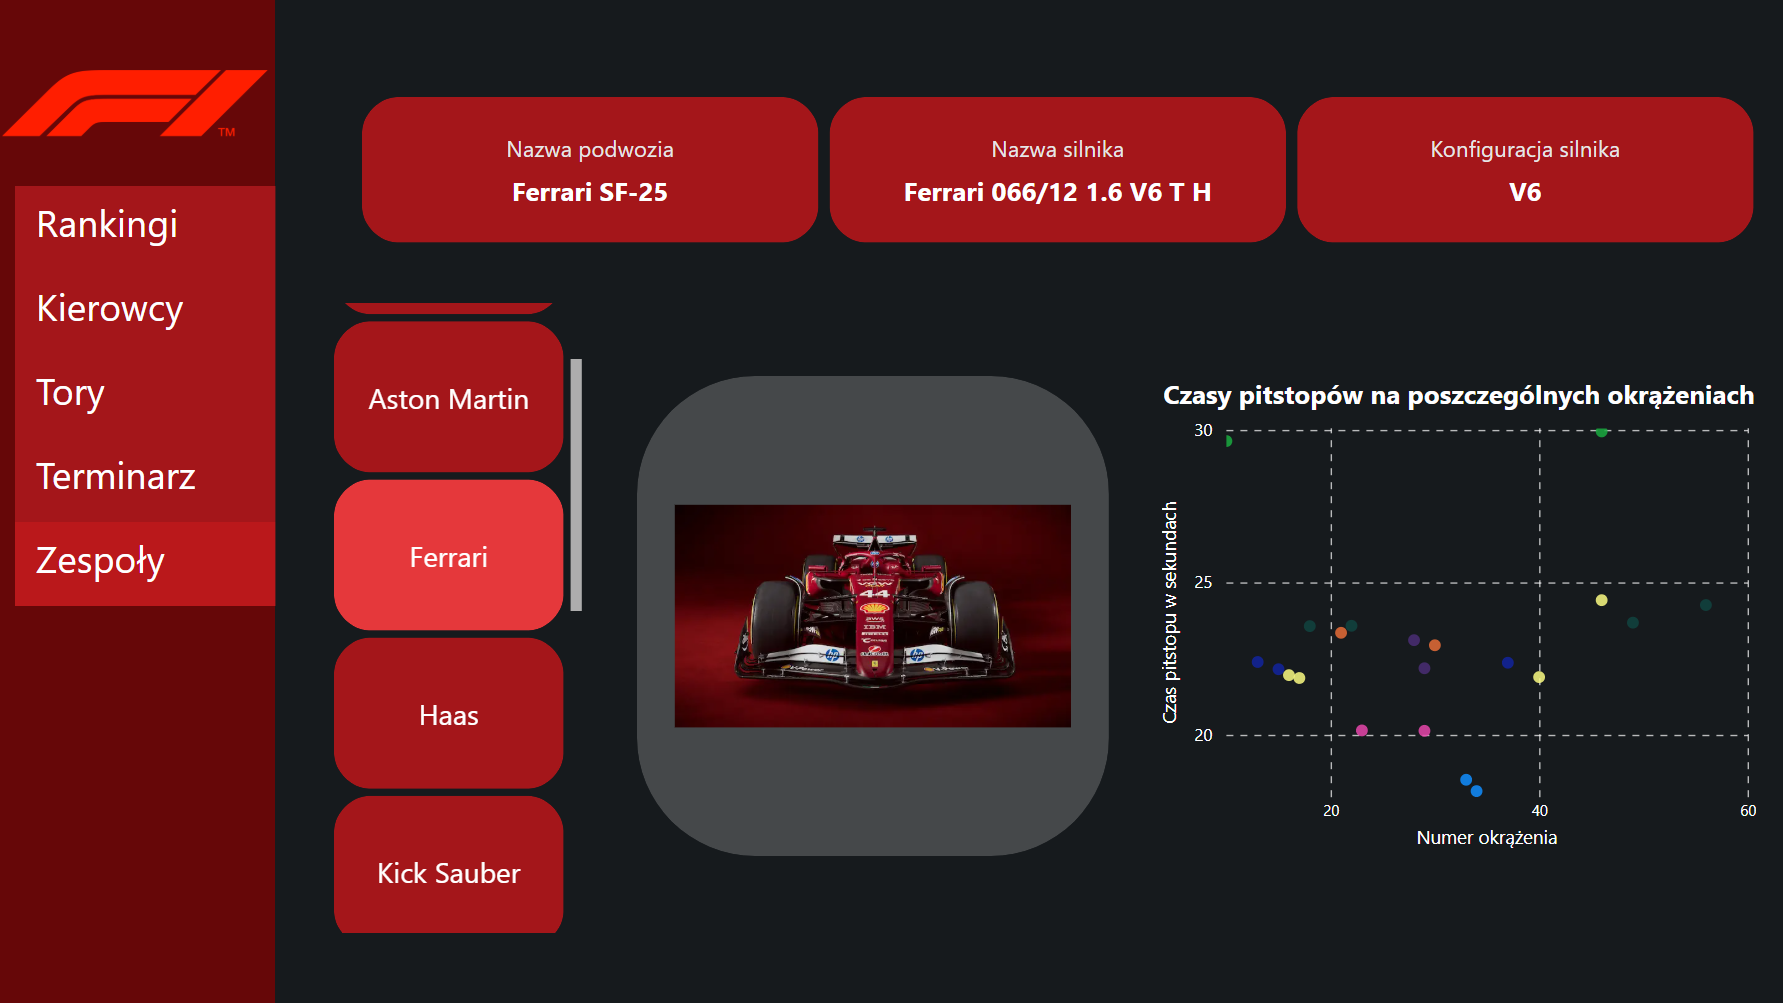

The dashboard page shown, as its layout file describes it:
{"tool":"powerbi","page":{"name":"Zespoły","canvas":[1280,720],"ordinal":4},"visuals":[{"type":"shape","box":[458.6,270,337.1,342.9],"z":0},{"type":"shape","box":[0,0,200,720],"z":1000},{"type":"pageNavigator","box":[14,134,186,300],"z":2000},{"type":"image","box":[0,0,200,150],"z":3000},{"type":"advancedSlicerVisual","fields":{"Values":["DWH dim_constructor.constructor_name"]},"box":[237.1,212.9,187.1,460],"z":4000},{"type":"cardVisual","title":"Konstruktor","fields":{"Data":["Min(DWH dim_constructor.constructor_name)"]},"box":[468.6,280,317.1,327.1],"z":5000},{"type":"cardVisual","fields":{"Data":["Max(DWH fact_entrant.entrant_chassis_full_name)","Min(DWH fact_entrant.entrant_engine_full_name)","Min(DWH fact_entrant.entrant_engine_configuration)"]},"box":[257.1,65.7,1004.3,114.3],"z":6000},{"type":"scatterChart","title":"Czasy pitstopów na poszczególnych okrążeniach","fields":{"X":["DWH fact_race_data.race_data_pit_stop_lap"],"Series":["DWH dim_race.race_date"],"Y":["DWH fact_race_data.CzasPitStopuWSekundach"]},"box":[828.6,270,434.3,342.9],"z":6001}]}

Visuals, with their boxes in screenshot pixels (x1, y1, x2, y2), scaled from the page's 1280x720 canvas onto the 1783x1003 screenshot:
shape: [639, 376, 1108, 854]
shape: [0, 0, 279, 1002]
pageNavigator: [20, 187, 279, 605]
image: [0, 0, 279, 209]
advancedSlicerVisual - DWH dim_constructor.constructor_name: [330, 297, 591, 937]
"Konstruktor" cardVisual: [653, 390, 1094, 846]
cardVisual - Max(DWH fact_entrant.entrant_chassis_full_name) x Min(DWH fact_entrant.entrant_engine_full_name): [358, 92, 1757, 251]
"Czasy pitstopów na poszczególnych okrążeniach" scatterChart: [1154, 376, 1759, 854]
